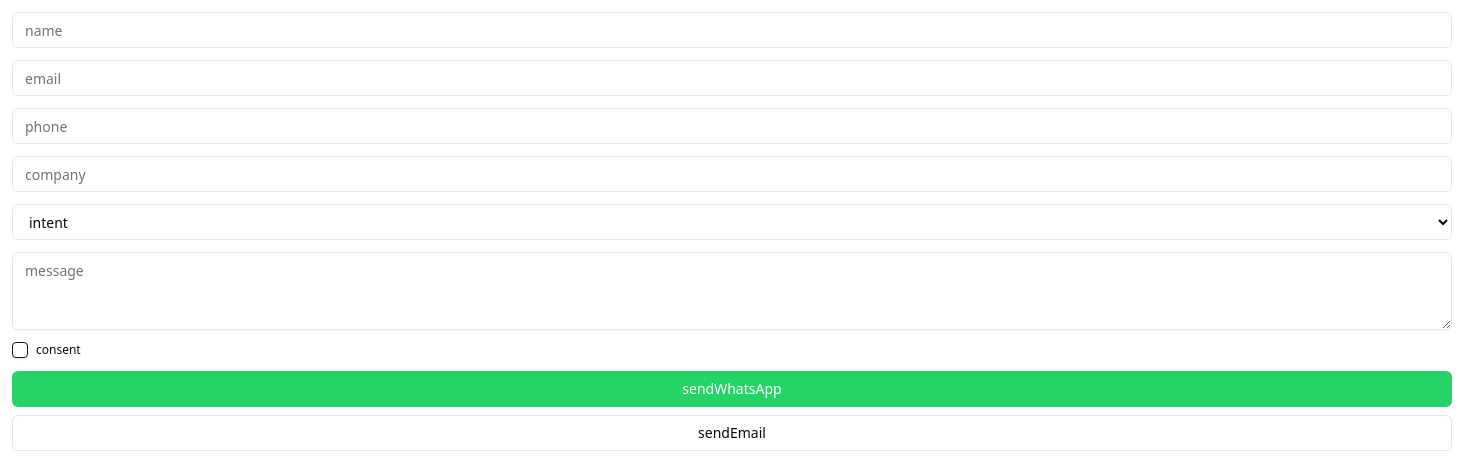
Test: LeadForm › disables both buttons while submitting and shows 'sending' only on the clicked one
In the field with placeholder "name": point(732, 30) [12, 12, 1452, 48], type "Ana"
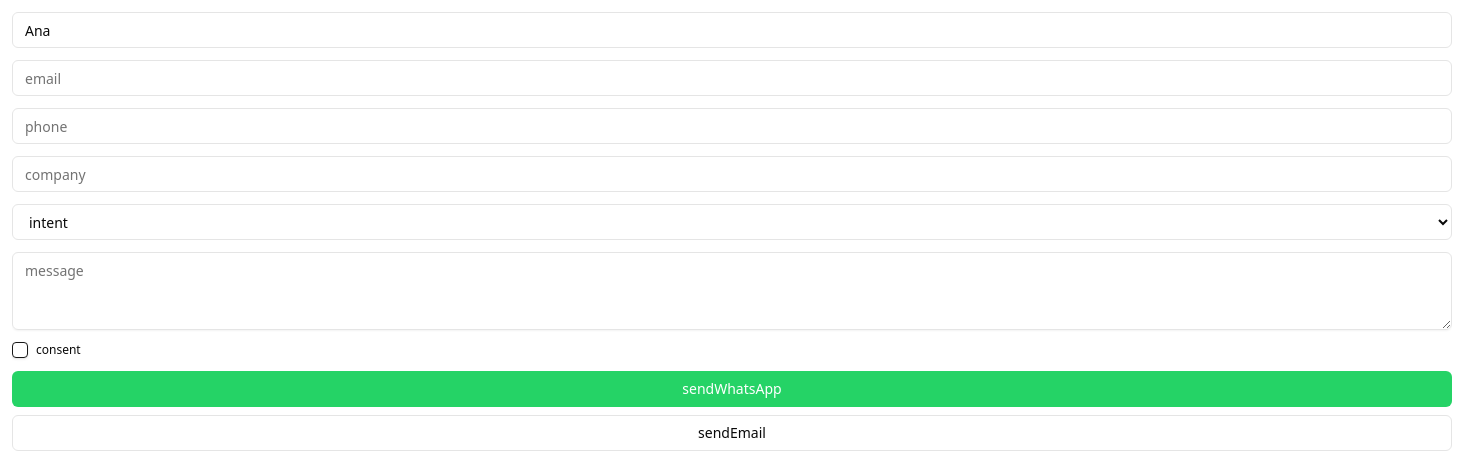
In the field with placeholder "email": point(732, 78) [12, 60, 1452, 96], type "ana@example.com"
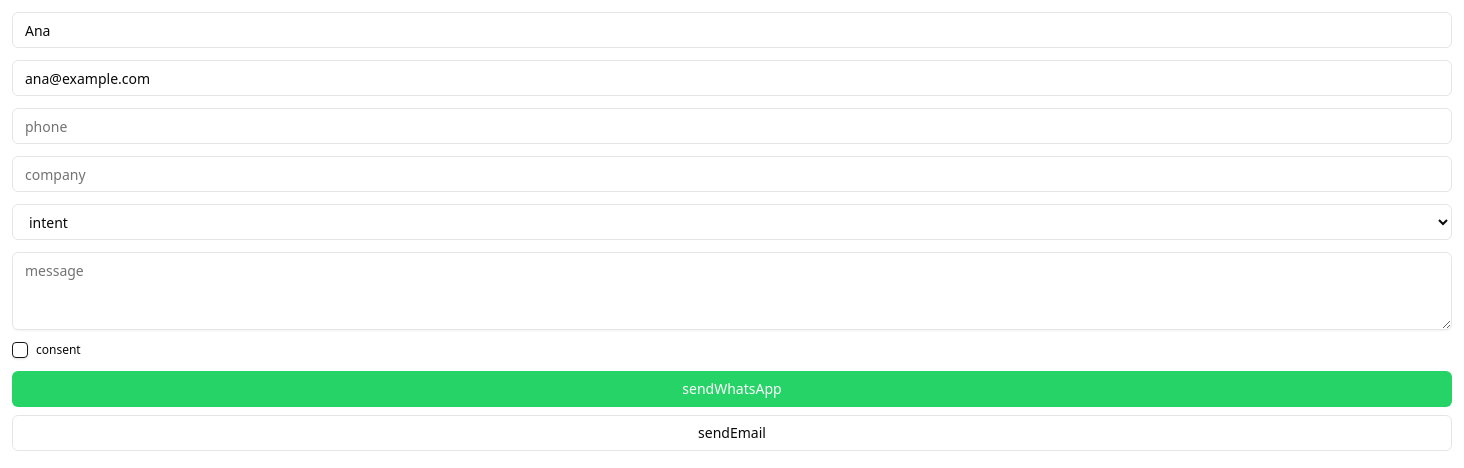
Click the checkbox: point(20, 350) [12, 342, 28, 358]
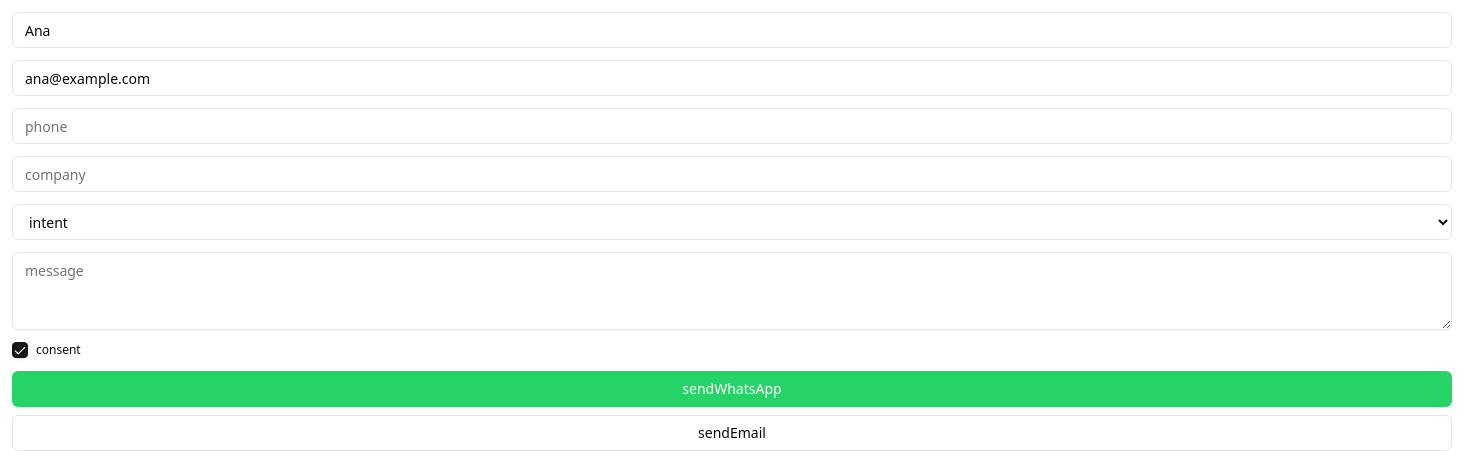
Click the button "sendWhatsApp": point(732, 388) [12, 370, 1452, 406]
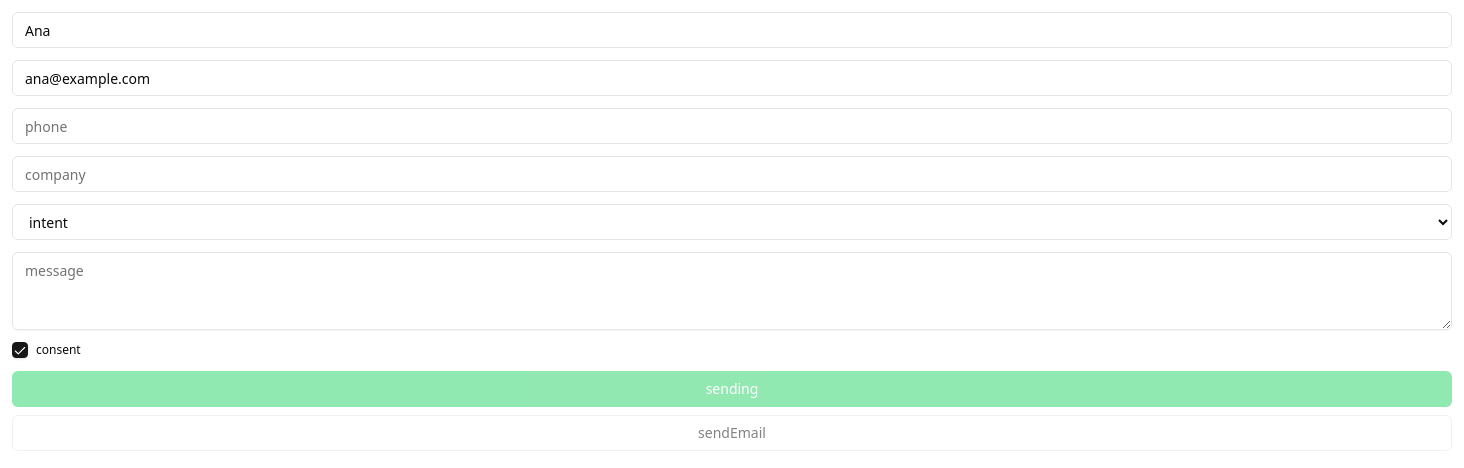
Result: the button "sending" is shown at [12, 370, 1452, 406]
Result: the button "sendEmail" is disabled at [12, 414, 1452, 450]
